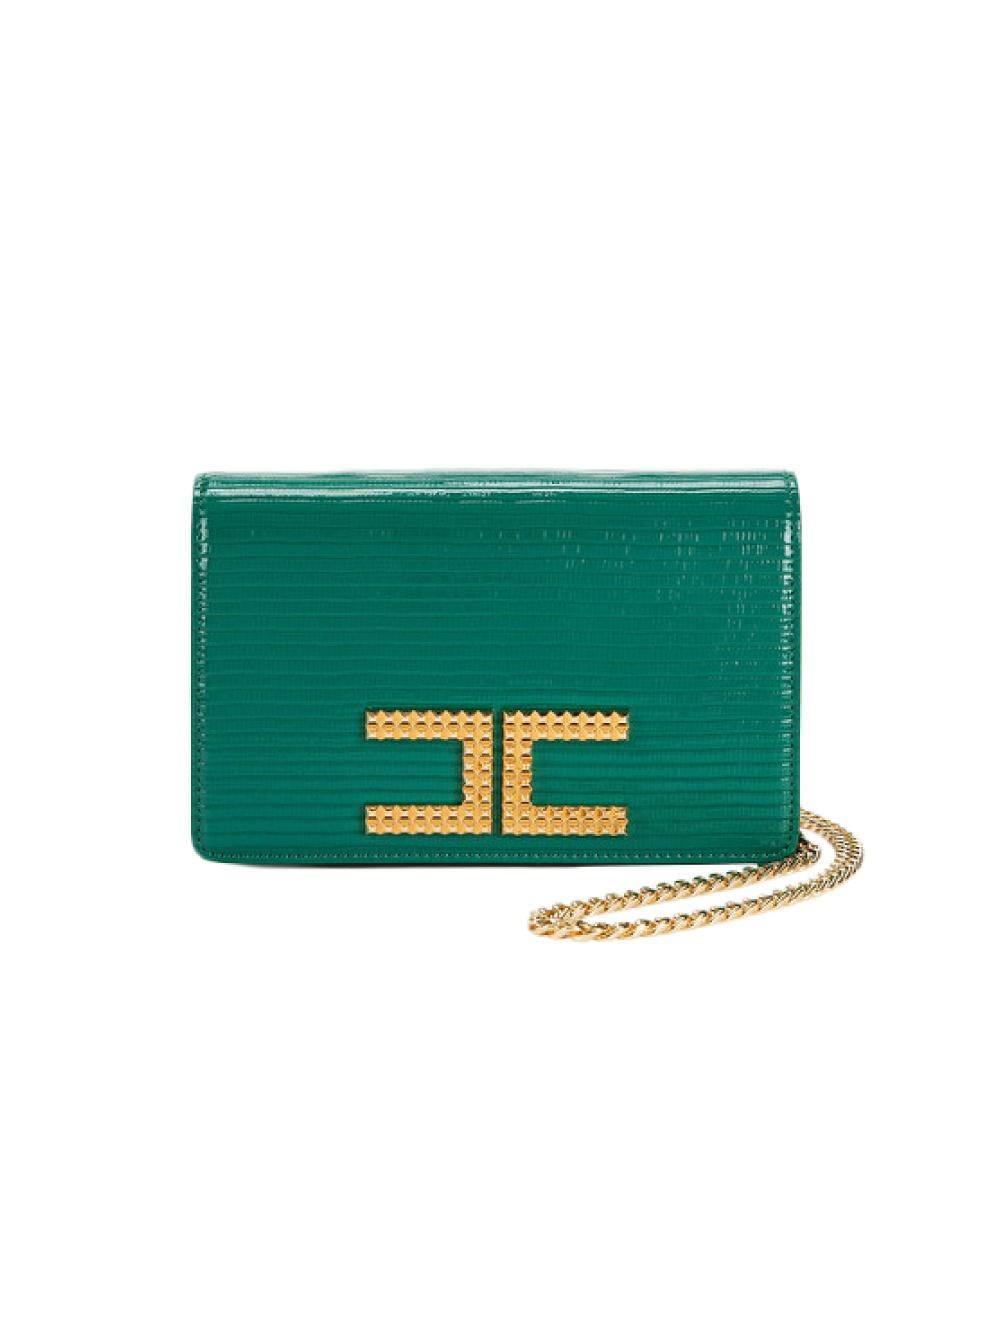ELISABETTA-FRANCHI: (341, 676, 661, 853)
